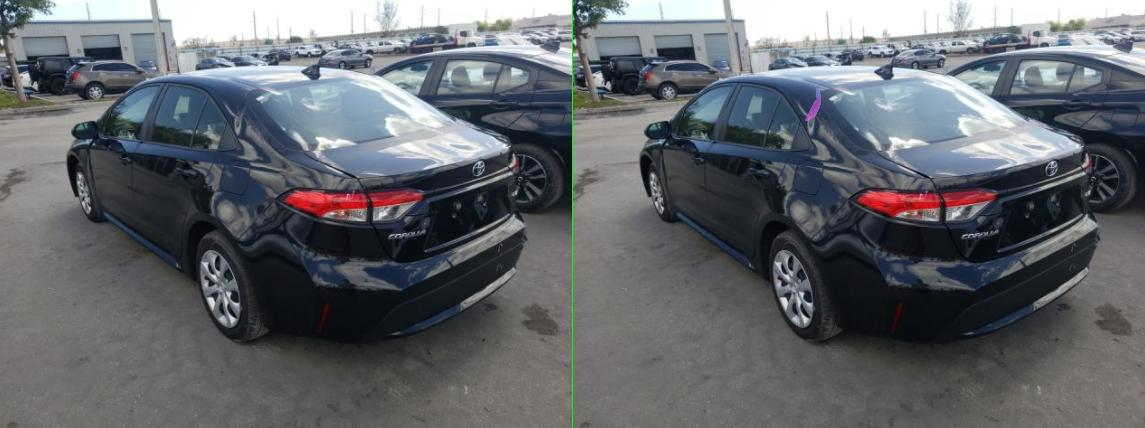Dent: (464, 96, 494, 120)
Scratch: (486, 88, 494, 101)
